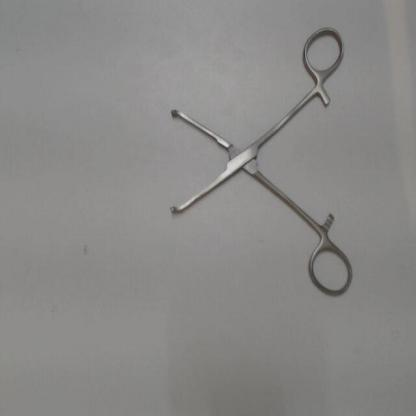Allis Tissue Forceps: (166, 21, 360, 301)
